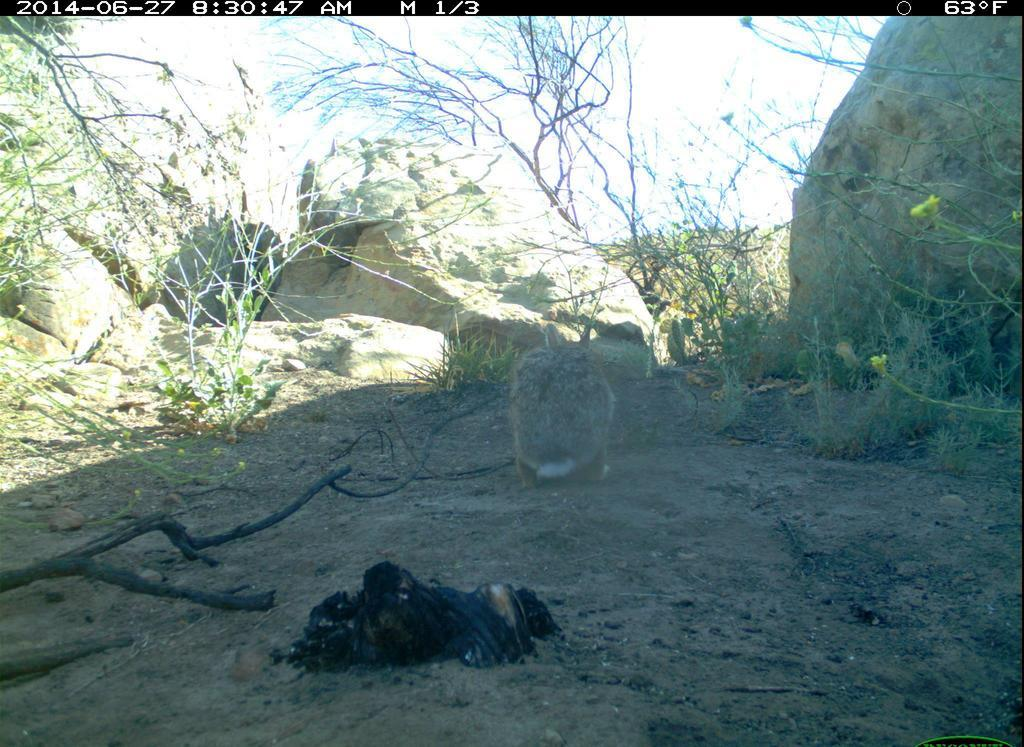rabbit: (507, 317, 627, 500)
